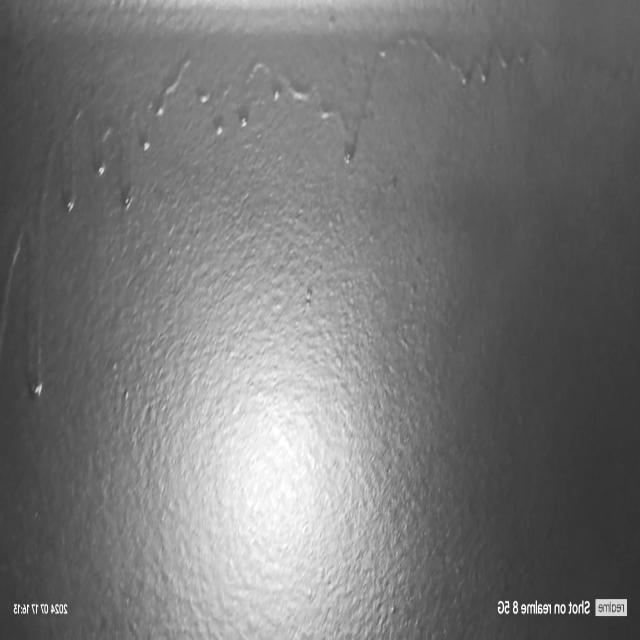paint drips: (0, 23, 557, 407)
